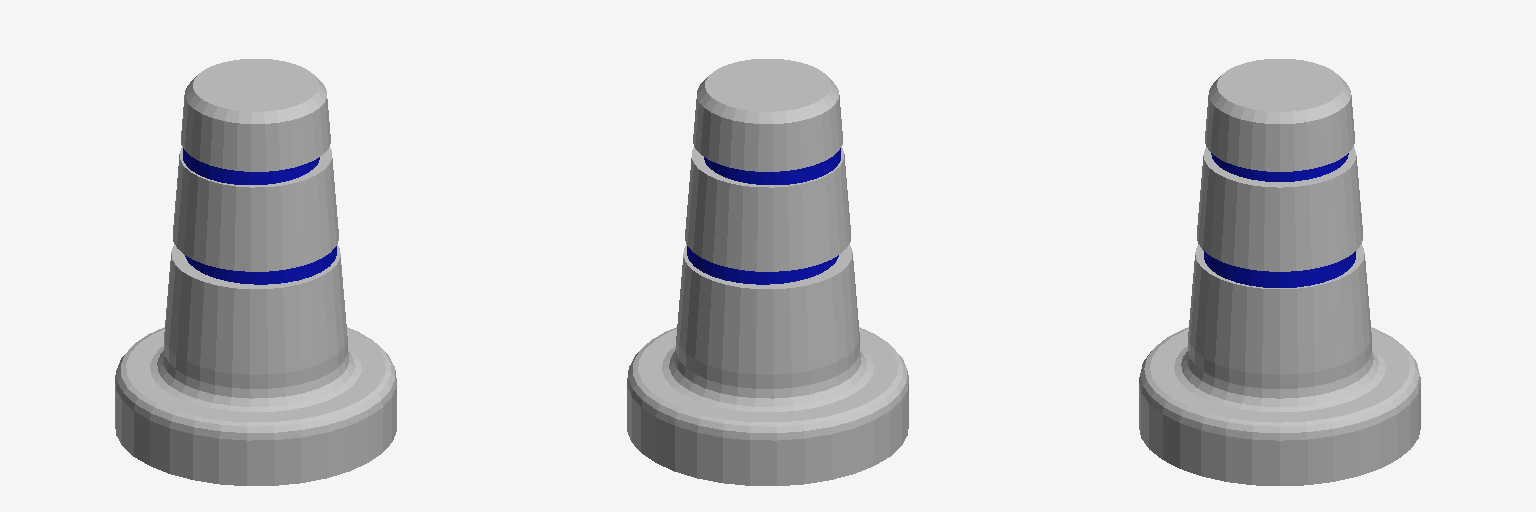
Rendered from Pedestal.obj.
The picture shows the model from 3 angles: view 1: azimuth 30°, elevation 25°; view 2: azimuth 150°, elevation 25°; view 3: azimuth 270°, elevation 25°; orthographic projection.
Visible parts, largest first — view 1: Cylinder; view 2: Cylinder; view 3: Cylinder.
Part boxes in pixels (bbox=[...]): Cylinder: bbox=[115, 59, 396, 485]; Cylinder: bbox=[627, 59, 908, 485]; Cylinder: bbox=[1139, 59, 1420, 485].
Bounding box in the file's own units: 0.6 × 0.8 × 0.6.